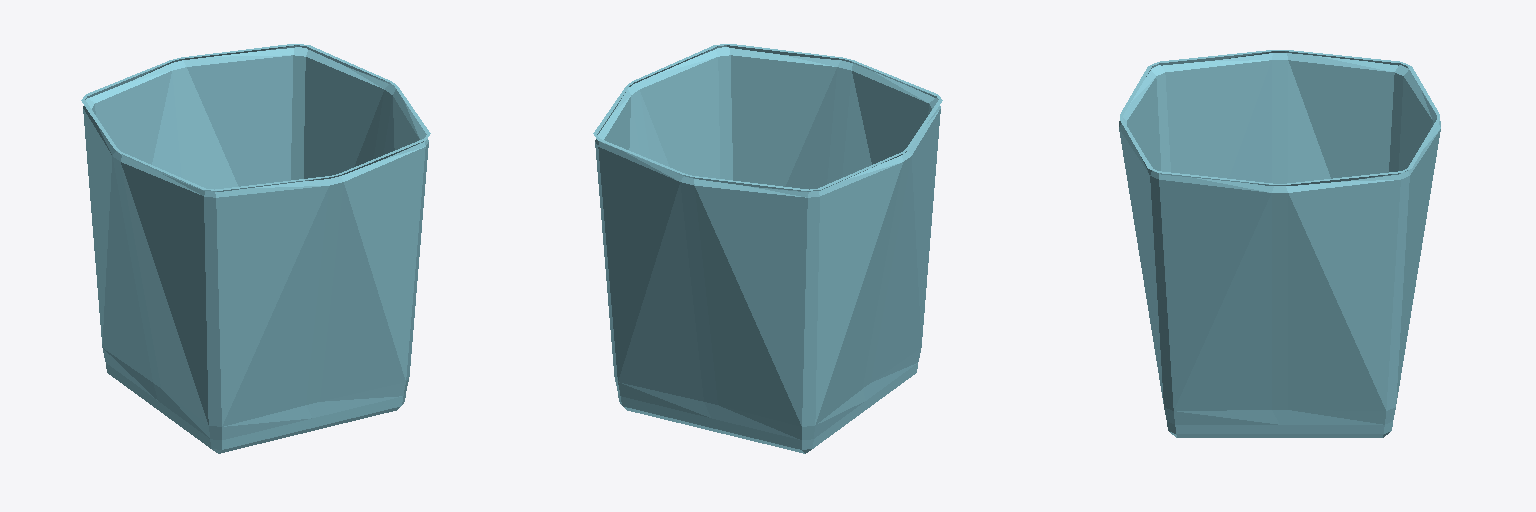
The model's file is Whiskey_Glass_001.obj.
The picture shows the model from 3 angles: view 1: azimuth 30°, elevation 25°; view 2: azimuth 150°, elevation 25°; view 3: azimuth 270°, elevation 25°; orthographic projection.
Parts seen in each view (by area): view 1: Box001; view 2: Box001; view 3: Box001.
Part boxes in pixels (left/top/right/bottom): Box001: left=81, top=44, right=430, bottom=453; Box001: left=593, top=44, right=942, bottom=453; Box001: left=1119, top=50, right=1440, bottom=437.
Bounding box in the file's own units: 57.91 × 55 × 57.91.